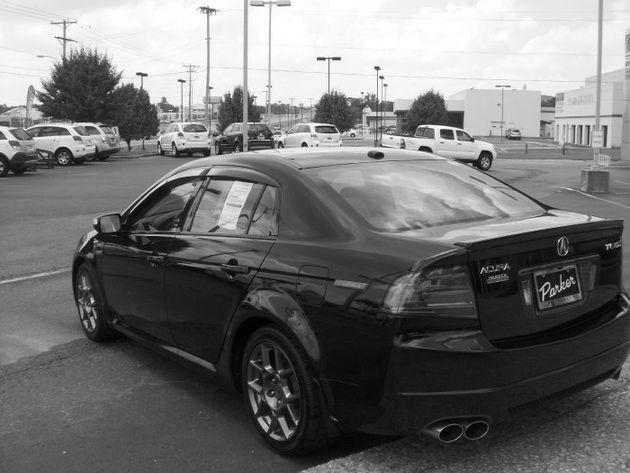car: (71, 145, 629, 460)
